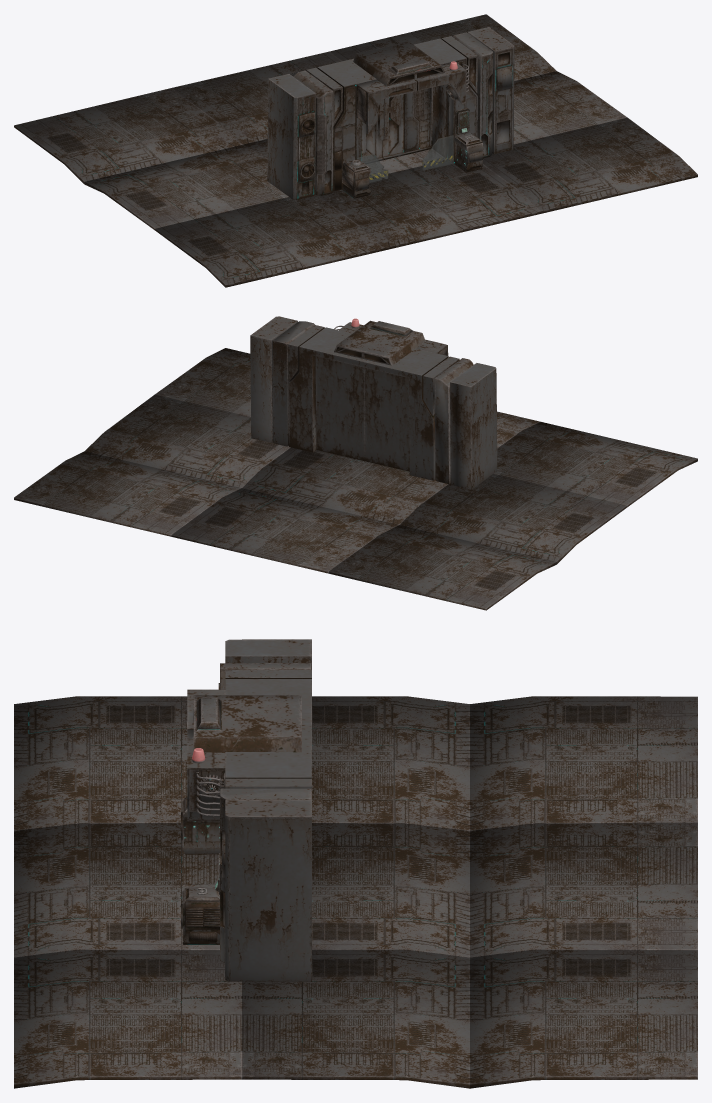
3 renders of one model, top to bottom at view 1: azimuth 30°, elevation 25°; view 2: azimuth 150°, elevation 25°; view 3: azimuth 270°, elevation 25°, orthographic. The views are drawn at different scales.
Visible parts, largest first — view 1: floor_low_Floor_0, flat_low, Gateright_low_Gate_0, Gateleft_low_Gate_0; view 2: floor_low_Floor_0, flat_low, Gateright_low_Gate_0, Gateleft_low_Gate_0; view 3: floor_low_Floor_0, flat_low.
Boxes of the visible parts, <box> form: floor_low_Floor_0: <box>14,14,697,287</box>; flat_low: <box>267,27,514,199</box>; Gateright_low_Gate_0: <box>382,87,432,159</box>; Gateleft_low_Gate_0: <box>356,99,384,163</box>; floor_low_Floor_0: <box>14,348,697,610</box>; flat_low: <box>250,316,497,489</box>; Gateright_low_Gate_0: <box>315,356,364,461</box>; Gateleft_low_Gate_0: <box>364,367,409,471</box>; floor_low_Floor_0: <box>14,696,697,1088</box>; flat_low: <box>181,639,311,981</box>.
Size of the model in its own units: 3284 by 823 by 2547.
2 materials, 2 textured.
